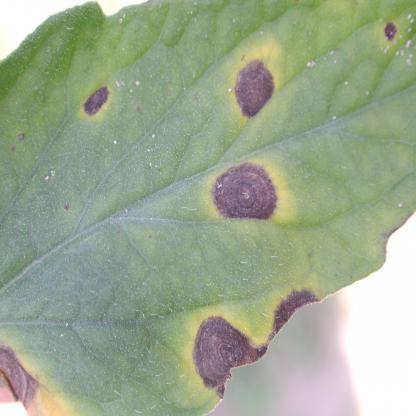Tomato Early blight leaf: (1, 8, 414, 410)
